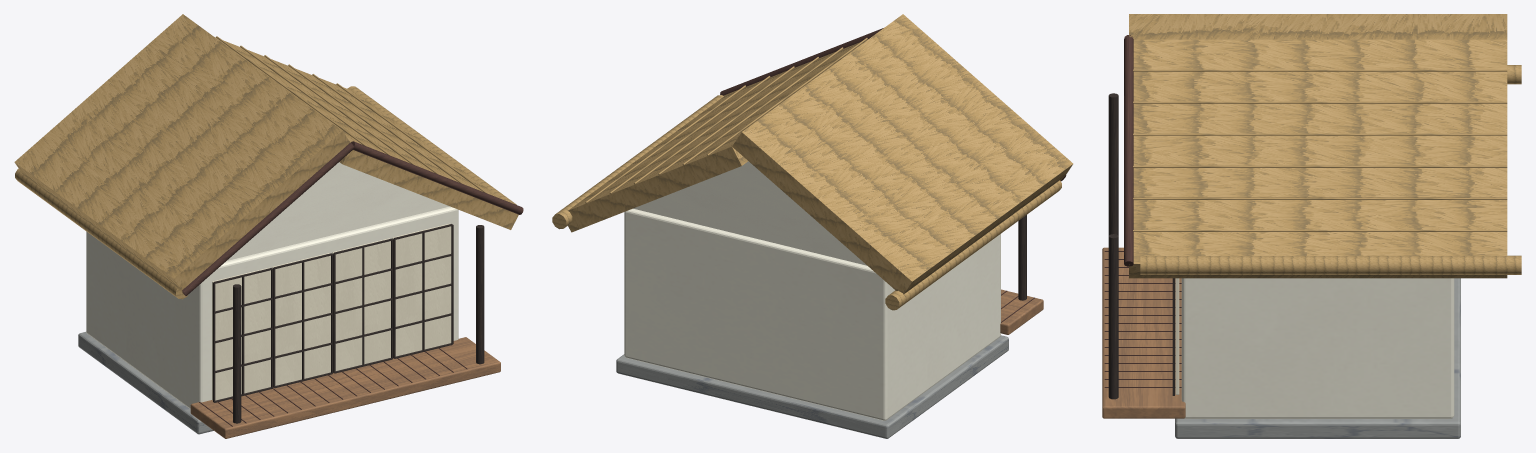
File: house_3.glb
3 renders of one model, left to right at view 1: azimuth 30°, elevation 25°; view 2: azimuth 150°, elevation 25°; view 3: azimuth 270°, elevation 25°, orthographic. The views are drawn at different scales.
Visible parts, largest first — view 1: house_3; view 2: house_3; view 3: house_3.
Boxes of the visible parts, x1,y1,x2,y2 form: house_3: (14,14,523,438); house_3: (552,14,1073,438); house_3: (1102,14,1521,438).
Size of the model in its own units: 6.33 by 4.99 by 5.54.
Materials: 1 (1 with a texture image).
